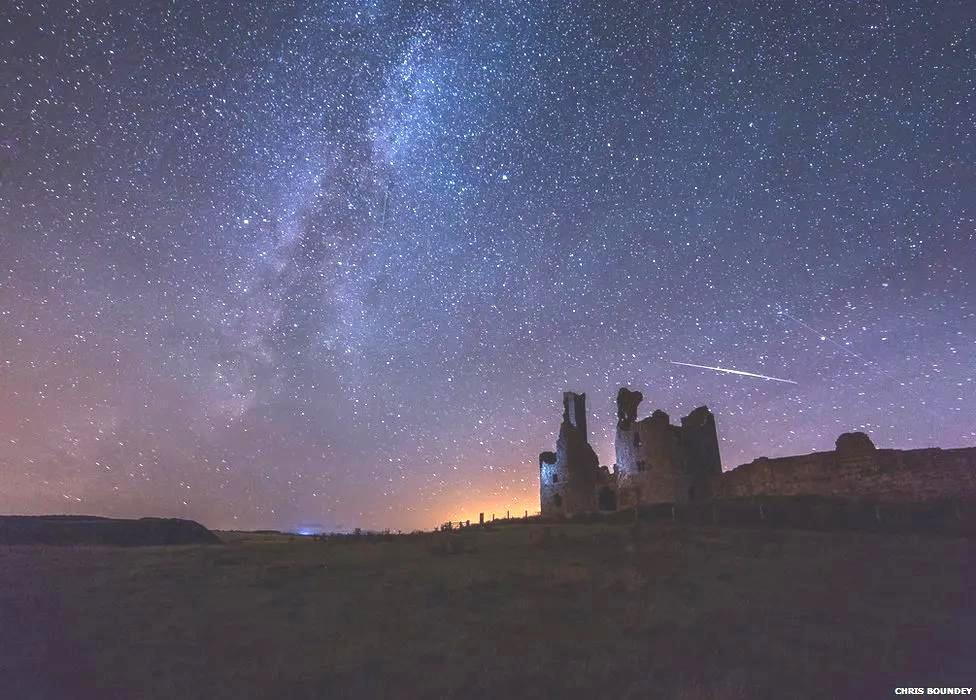meteorite: (650, 355, 809, 388)
